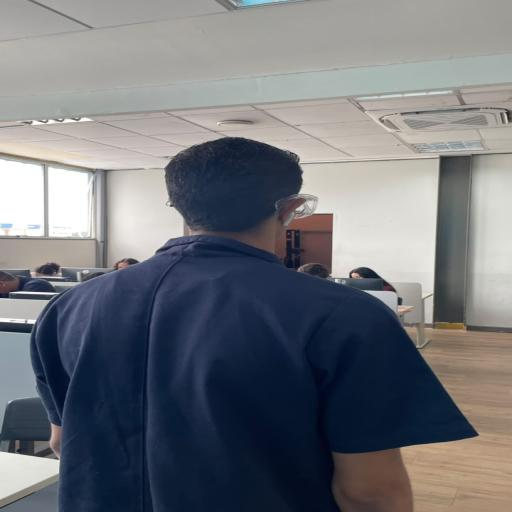OCULOS: (275, 193, 319, 219)
